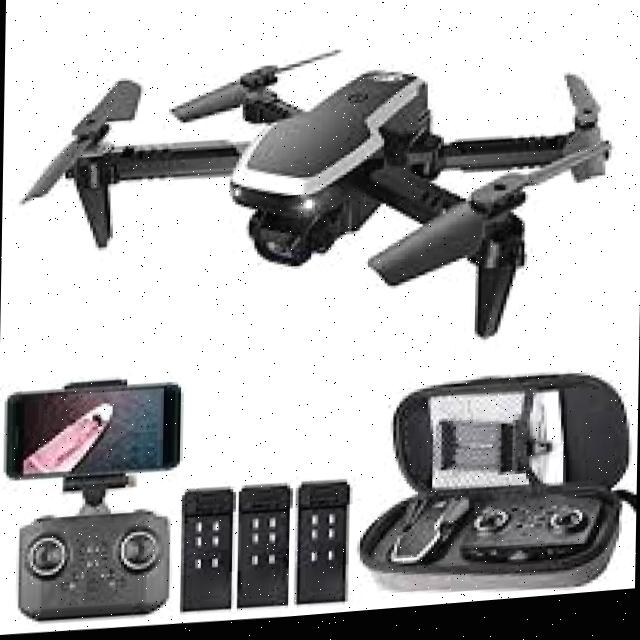drone: (18, 15, 627, 380)
